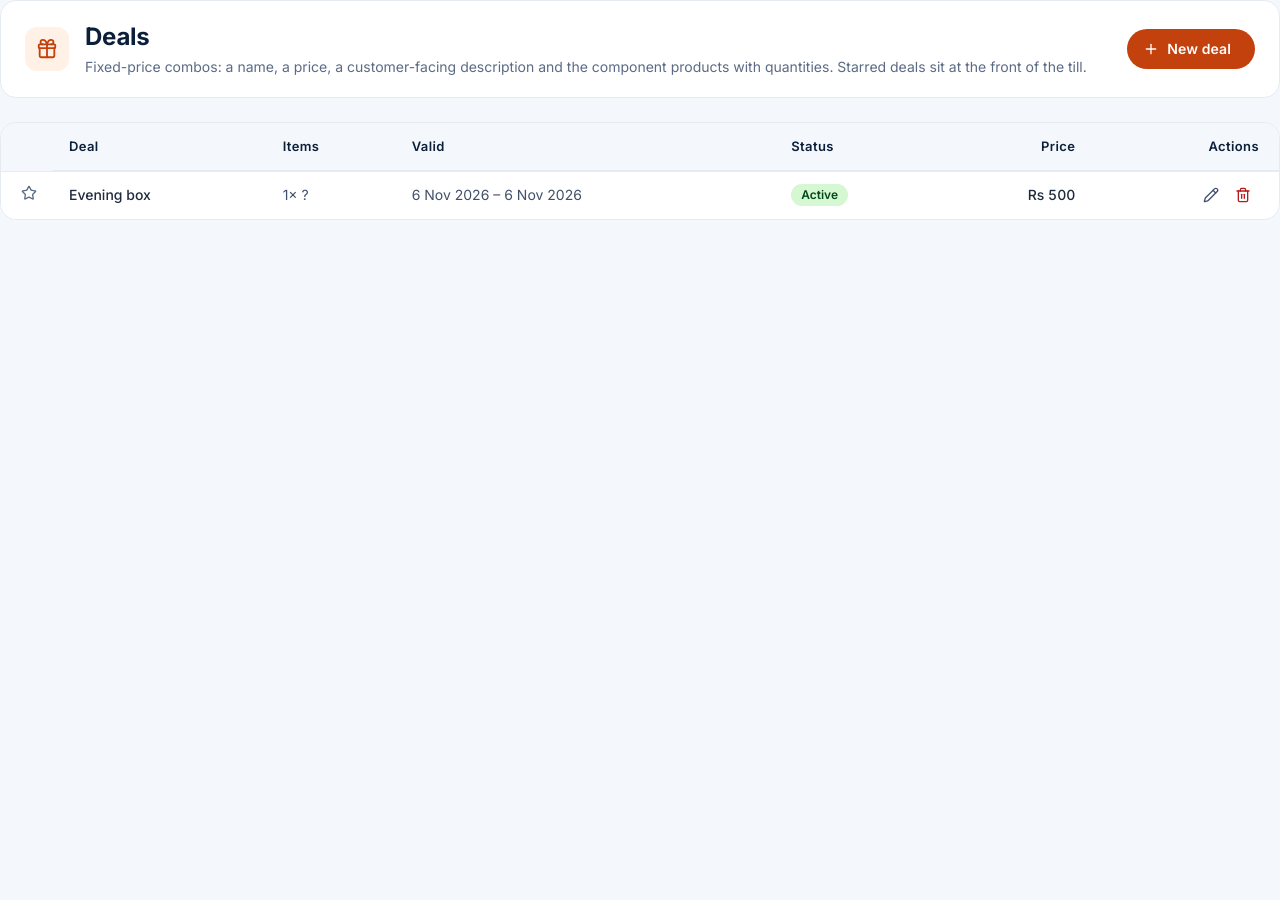
Deals (S9) › puts the saved days in the date boxes and refuses Valid to before Valid from
Click the button named "Edit": {"x": 1211, "y": 195} x1=1195 y1=179 x2=1227 y2=211
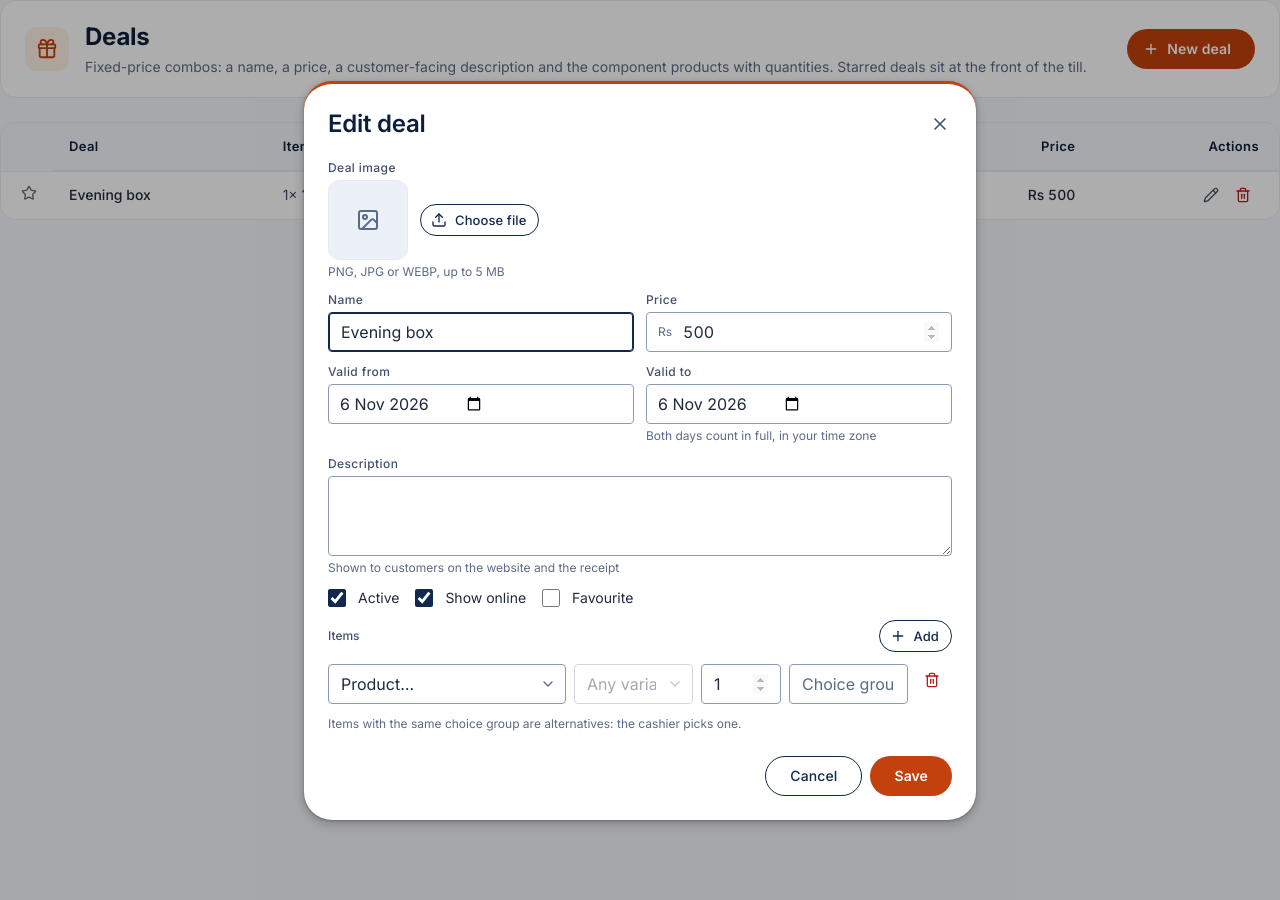
Expected: the date field labelled "Valid from" holds "2026-11-06", x1=328 y1=384 x2=634 y2=424
Expected: the date field labelled "Valid to" holds "2026-11-06"
In the date field labelled "Valid to": {"x": 799, "y": 404} x1=646 y1=384 x2=952 y2=424, type "2026-11-05"
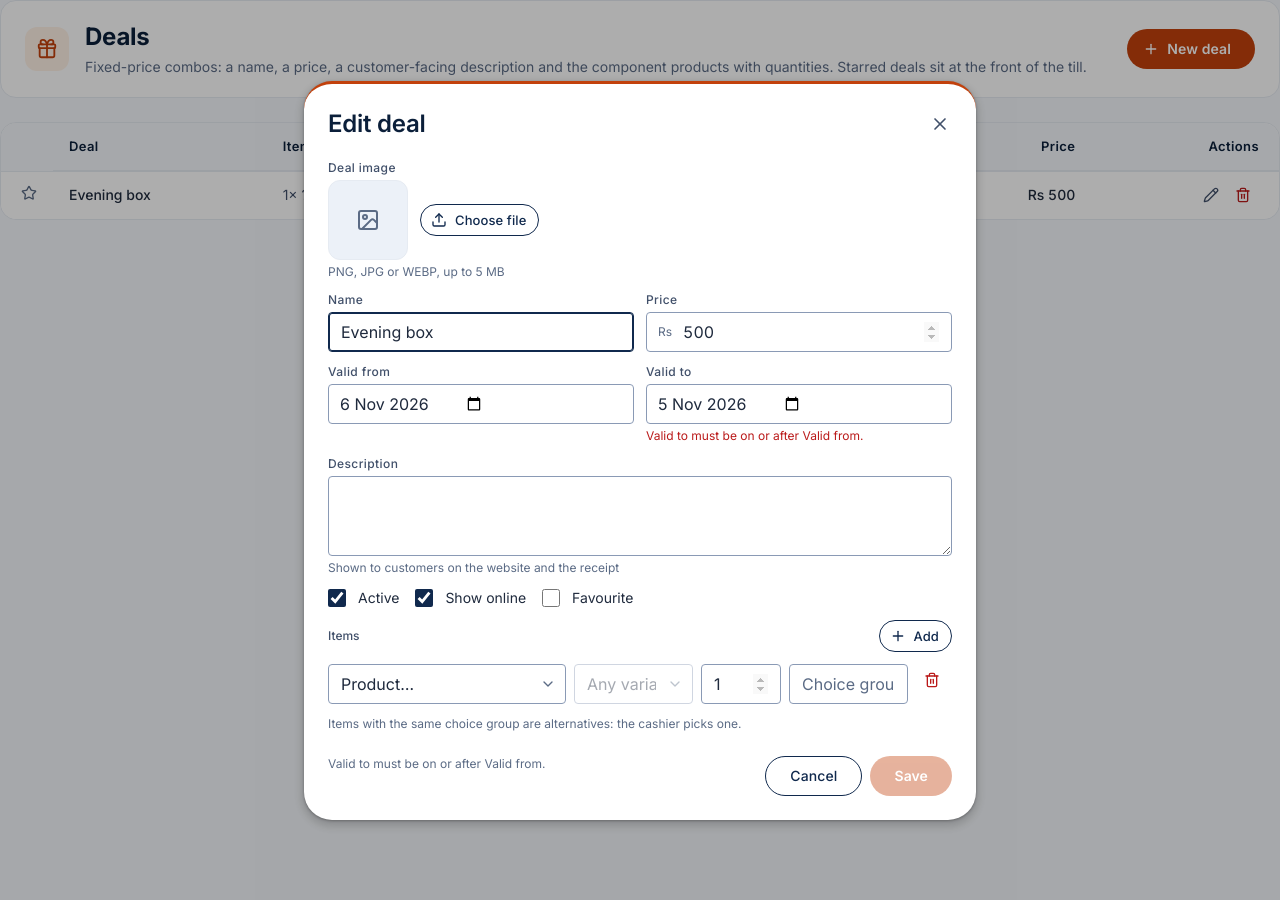
Expected: the text "Valid to must be on or after Valid from." is shown, x1=646 y1=428 x2=863 y2=442
Expected: the button "Save" is disabled, x1=870 y1=756 x2=952 y2=796
